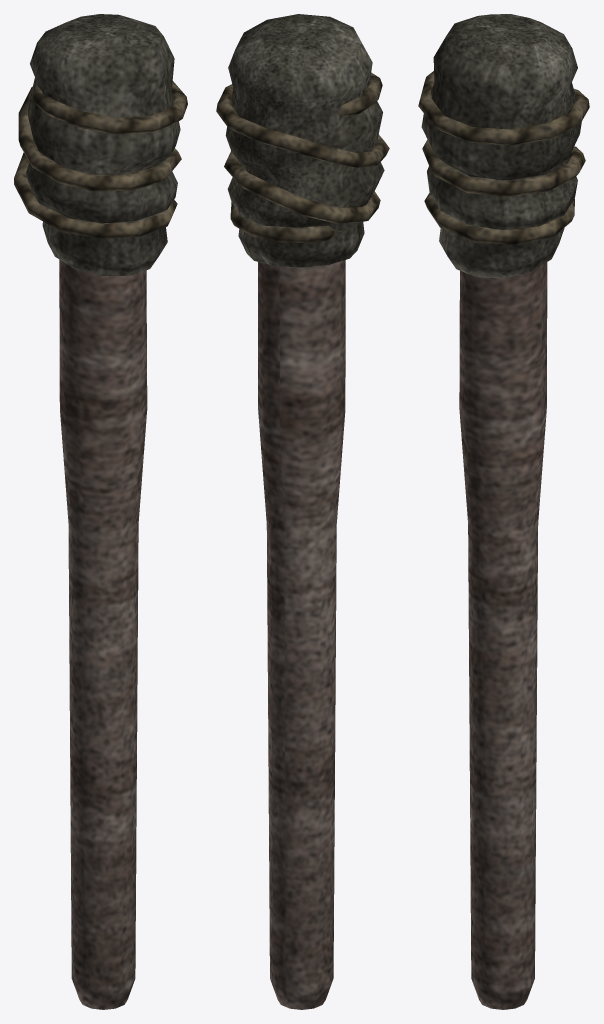
File: torch.glb
3 views of the same model, side by side, from view 1: azimuth 30°, elevation 25°; view 2: azimuth 150°, elevation 25°; view 3: azimuth 270°, elevation 25° (orthographic).
Parts seen in each view (by area): view 1: torch; view 2: torch; view 3: torch.
Part boxes in pixels (left/top/right/bottom): torch: left=14, top=14, right=187, bottom=1009; torch: left=216, top=14, right=389, bottom=1009; torch: left=418, top=14, right=589, bottom=1009.
Size of the model in its own units: 0.8183 by 5.1 by 0.8149.
Materials: 1 (1 with a texture image).
